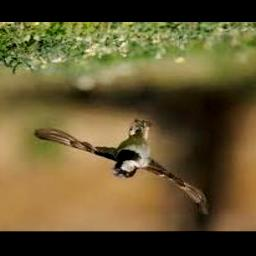Sparrow: (34, 119, 209, 214)
